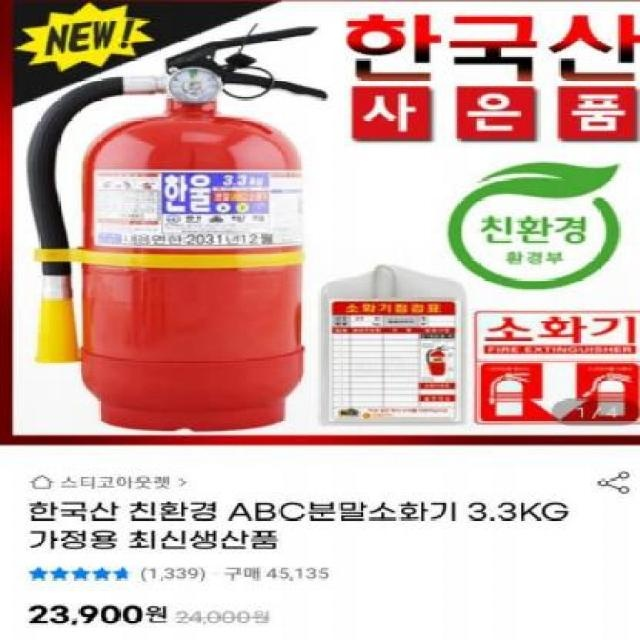fire extinguisher: (24, 26, 328, 432)
